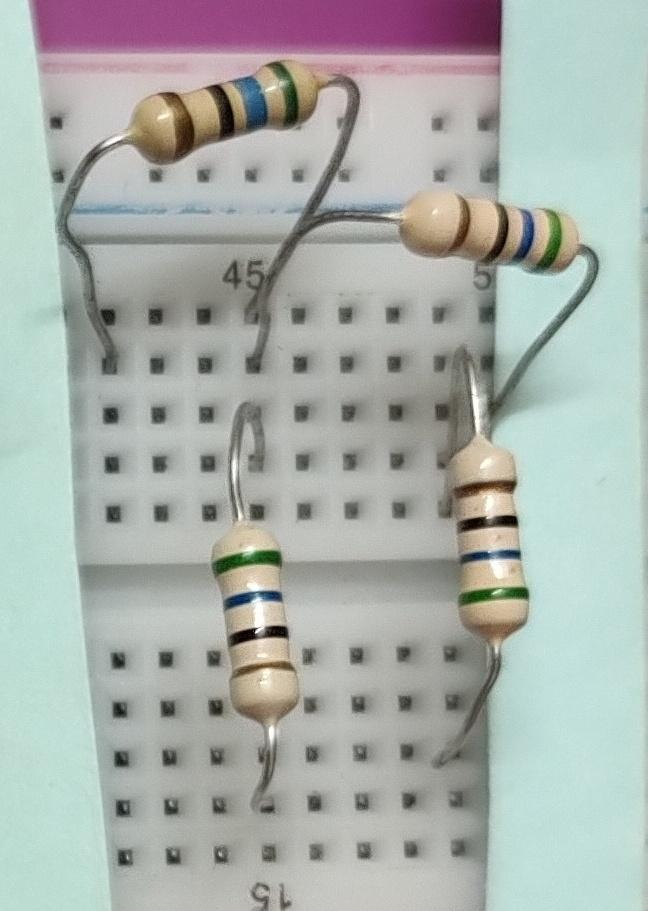resistor: (117, 45, 329, 167), (435, 422, 546, 652), (204, 515, 318, 733), (387, 174, 585, 285)
